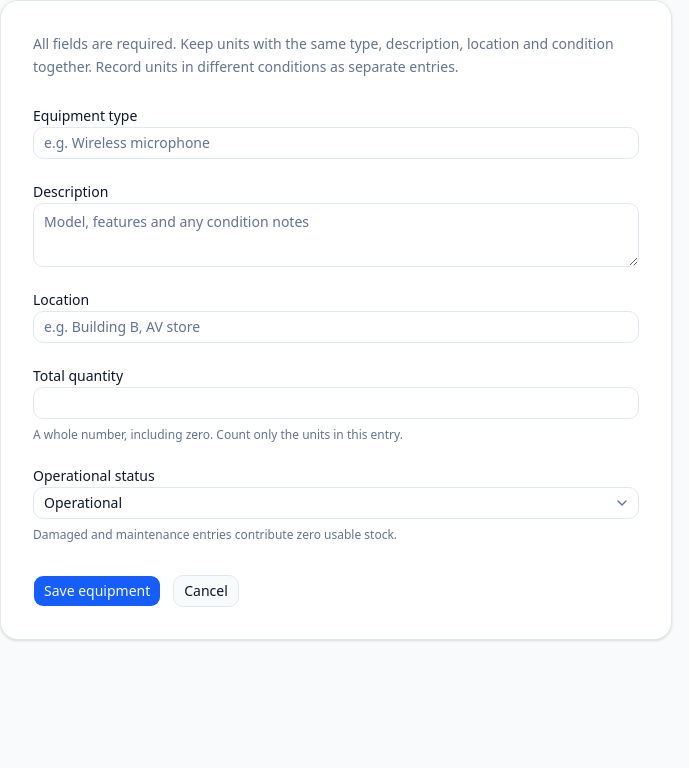
Test case: equipment keeps edits after a failed save and suppresses pending duplicates: {"status":400,"fields":{"equipment_type":"Type required","description":"Describe eq
Type "Handheld" into the text box labelled "Description" at {"x": 336, "y": 234}, box [33,202,639,266]
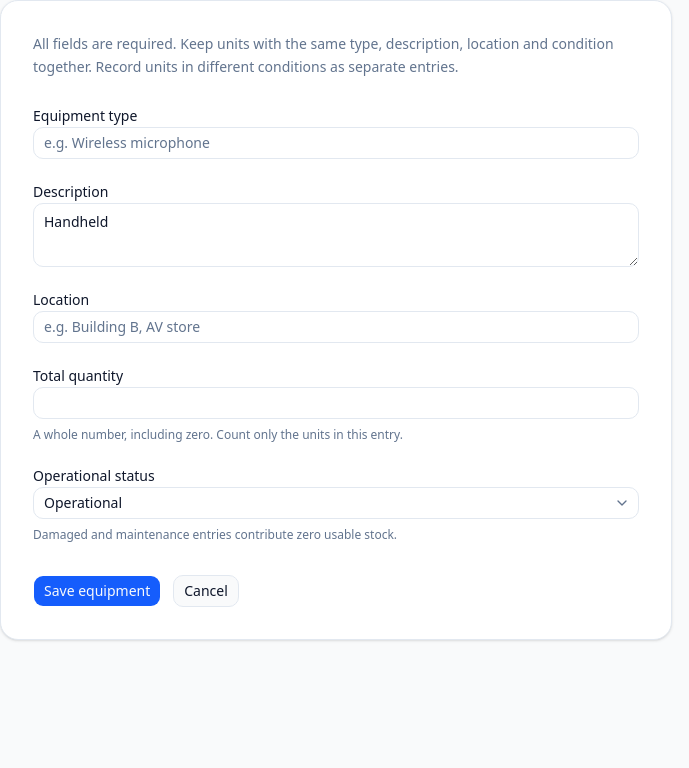
Submit the form
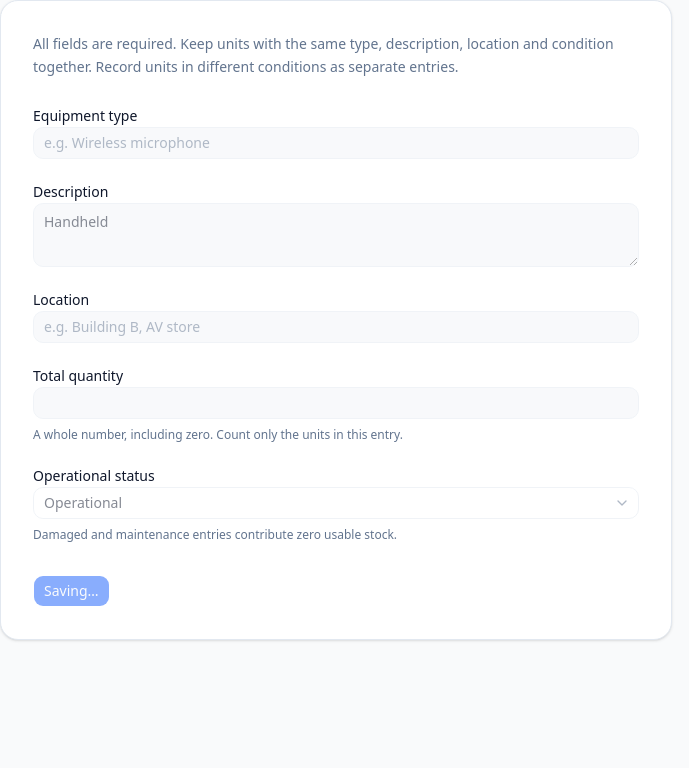
Submit the form
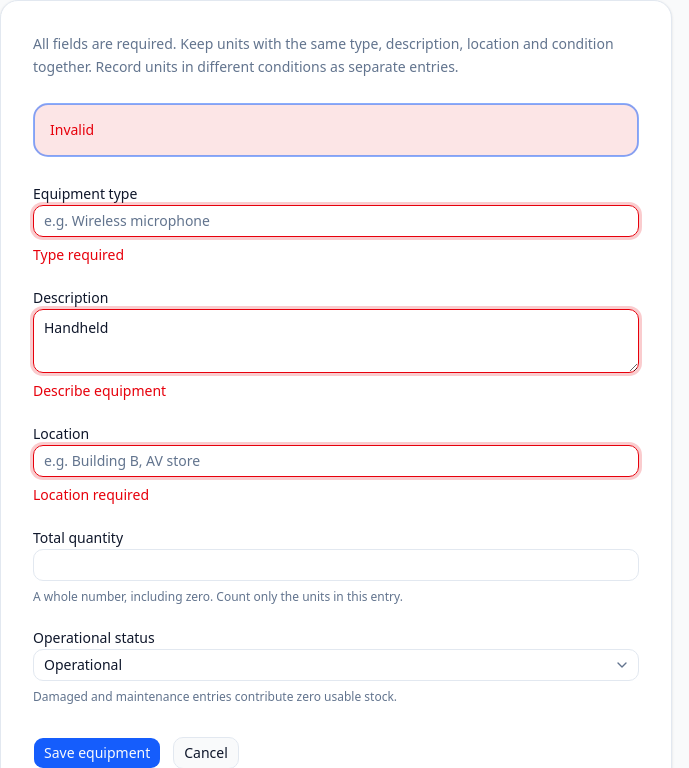
Check: the message "Invalid" is shown, box [33,102,639,156]
Check: the text "Describe equipment" is shown, box [33,380,166,400]
